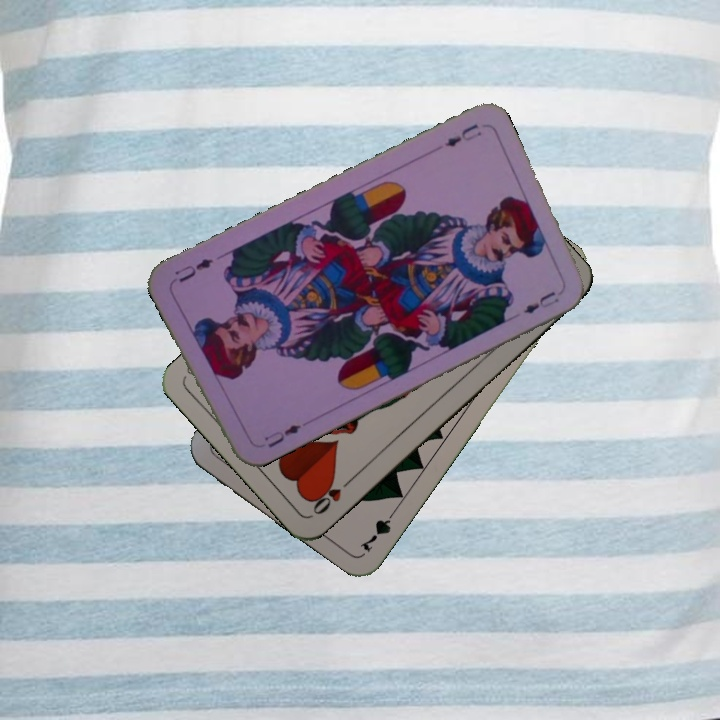EU: (260, 420, 304, 451), (441, 119, 485, 150)
G7: (355, 503, 400, 555)
HO: (307, 474, 355, 518)
